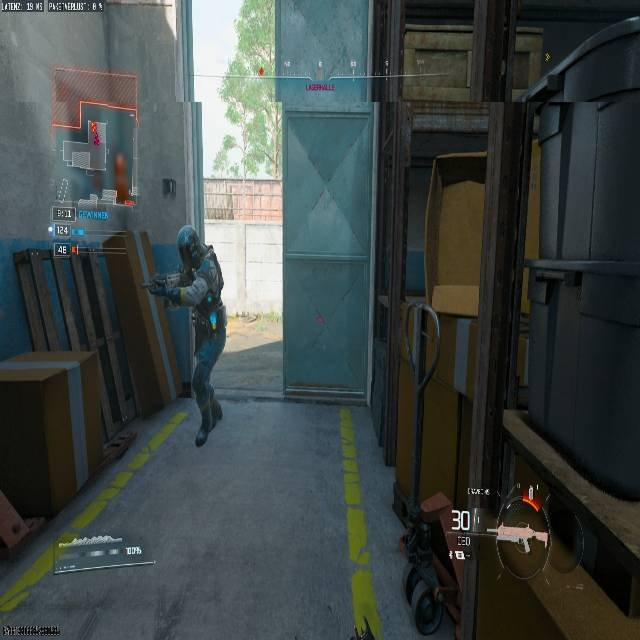head: (176, 225, 199, 259)
player: (146, 224, 227, 448)
